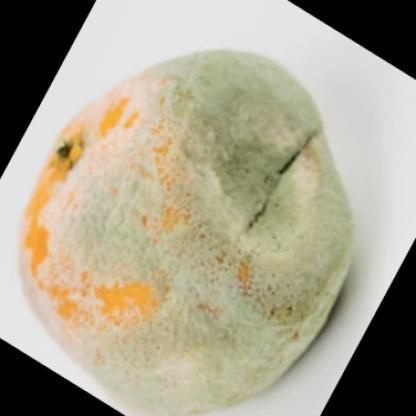rotten: (19, 48, 352, 416)
